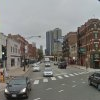crosswalk: (32, 70, 89, 84)
